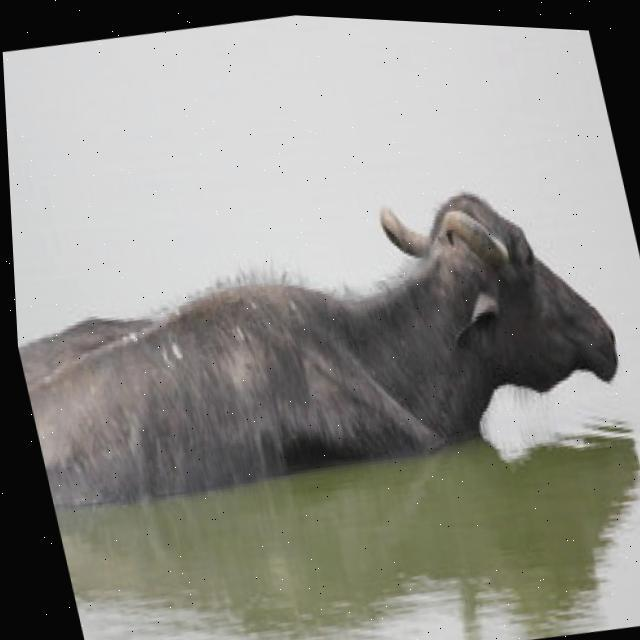Buffalo: (7, 141, 640, 543)
